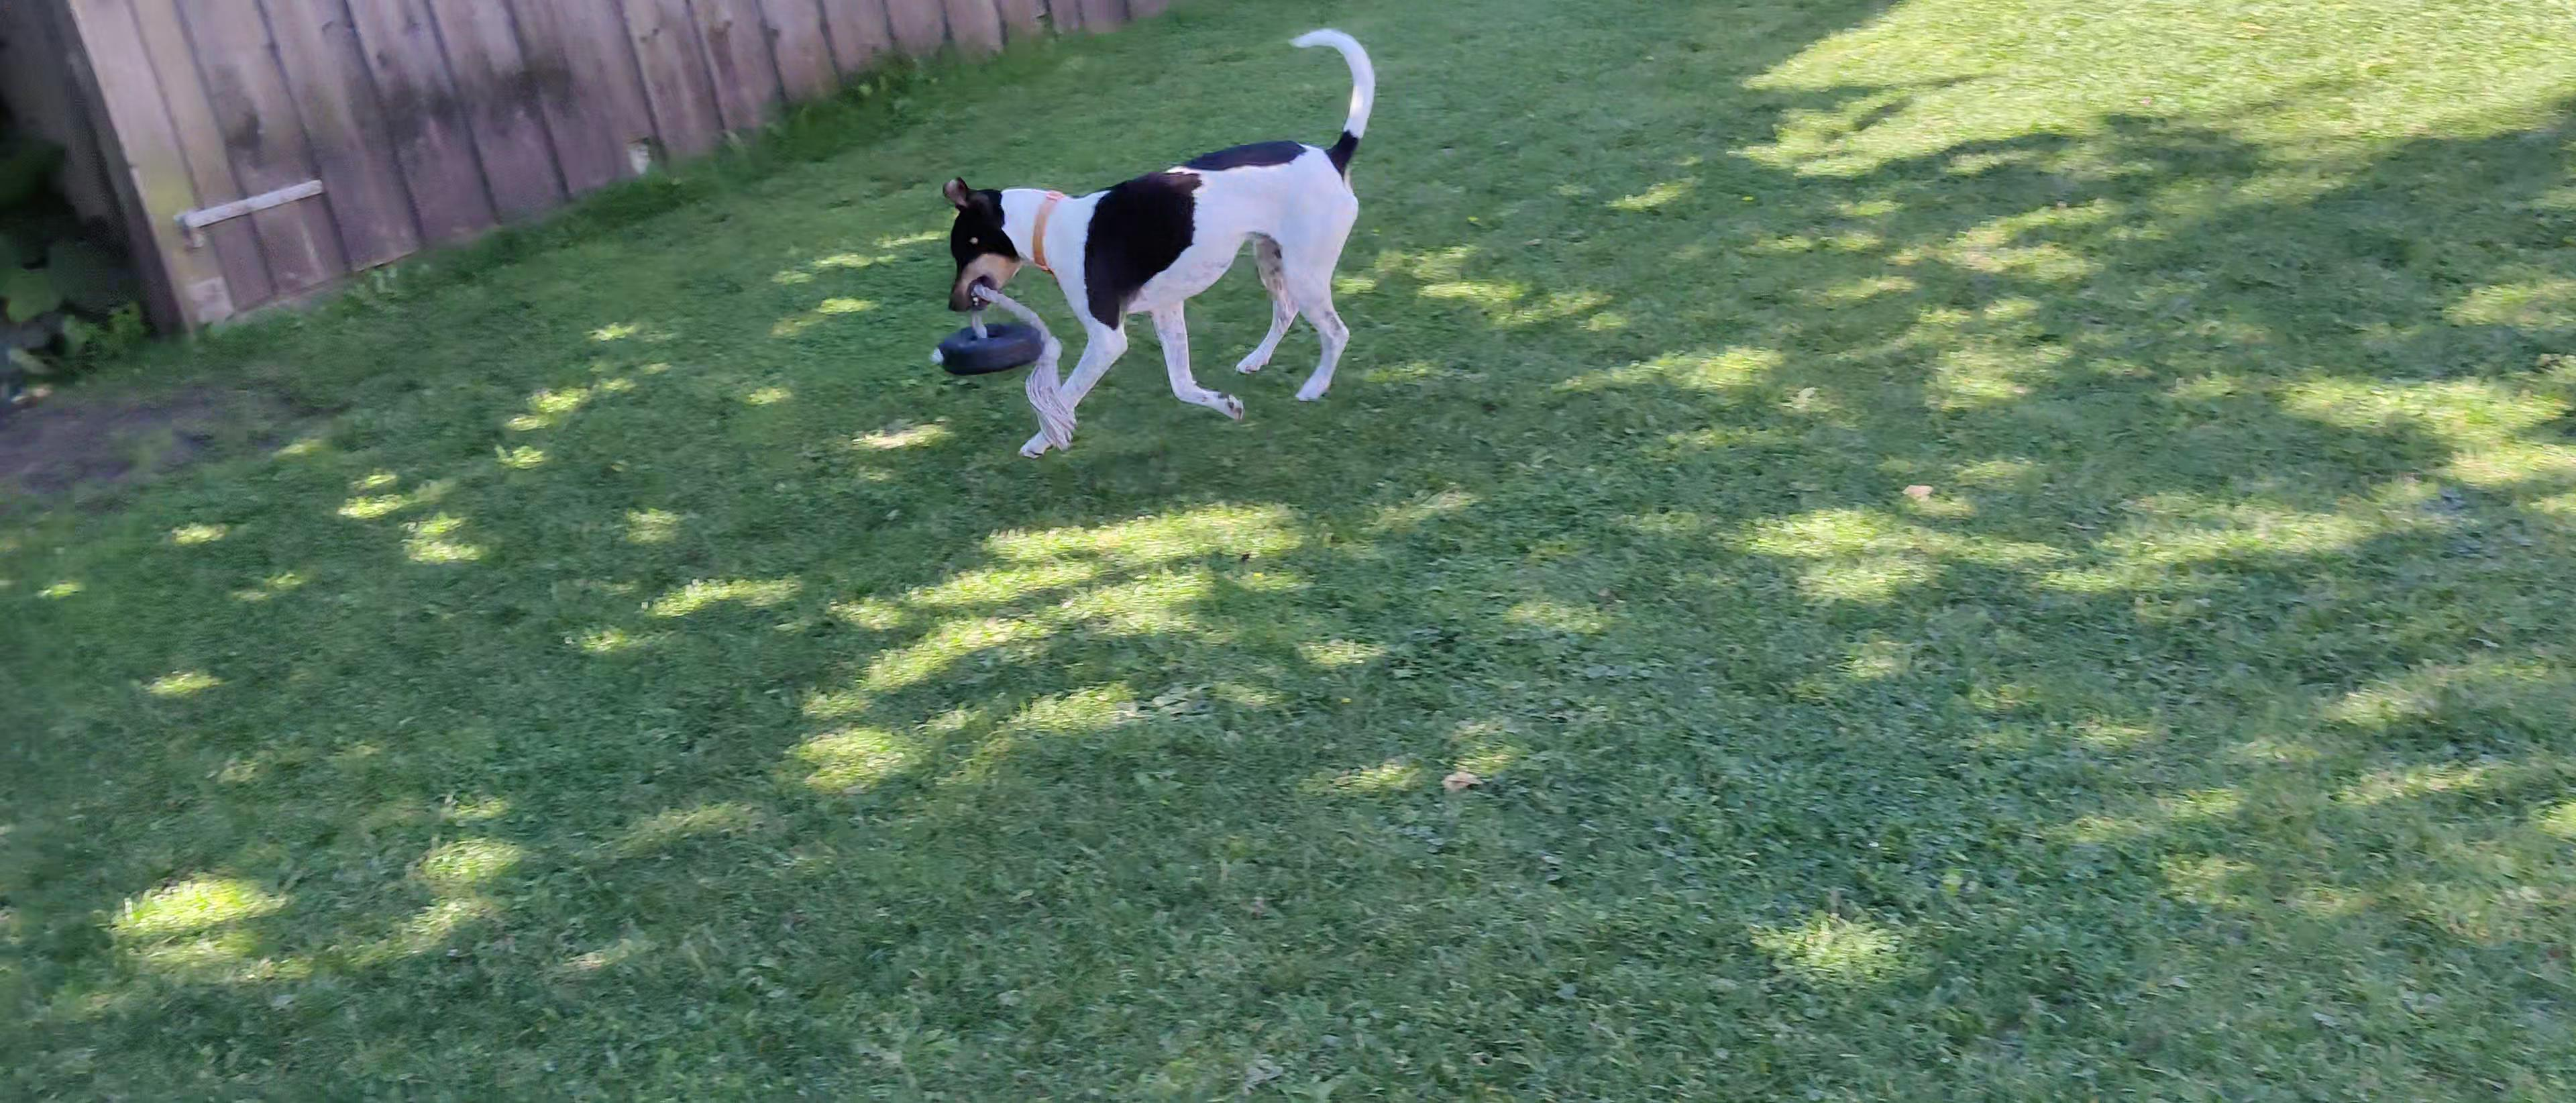Dog: (920, 20, 1423, 470)
